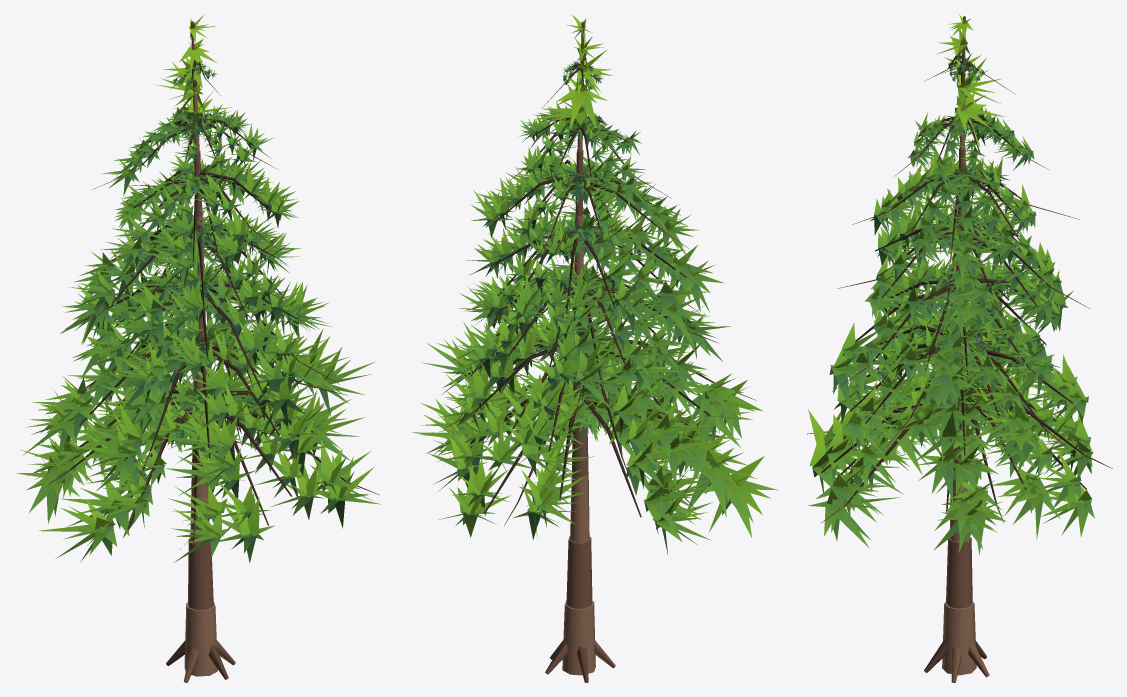
File: pine.glb
The picture shows the model from 3 angles, left to right: view 1: azimuth 30°, elevation 25°; view 2: azimuth 150°, elevation 25°; view 3: azimuth 270°, elevation 25°; orthographic projection.
Visible parts, largest first — view 1: pine-leaves, pine; view 2: pine-leaves, pine; view 3: pine-leaves, pine.
Boxes of the visible parts, x1,y1,x2,y2 form: pine-leaves: [16, 14, 380, 563]; pine: [48, 21, 379, 682]; pine-leaves: [411, 15, 778, 554]; pine: [441, 21, 756, 682]; pine-leaves: [807, 14, 1094, 555]; pine: [807, 16, 1112, 682].
Bounding box in the file's own units: 2.32 × 4.29 × 1.82.
